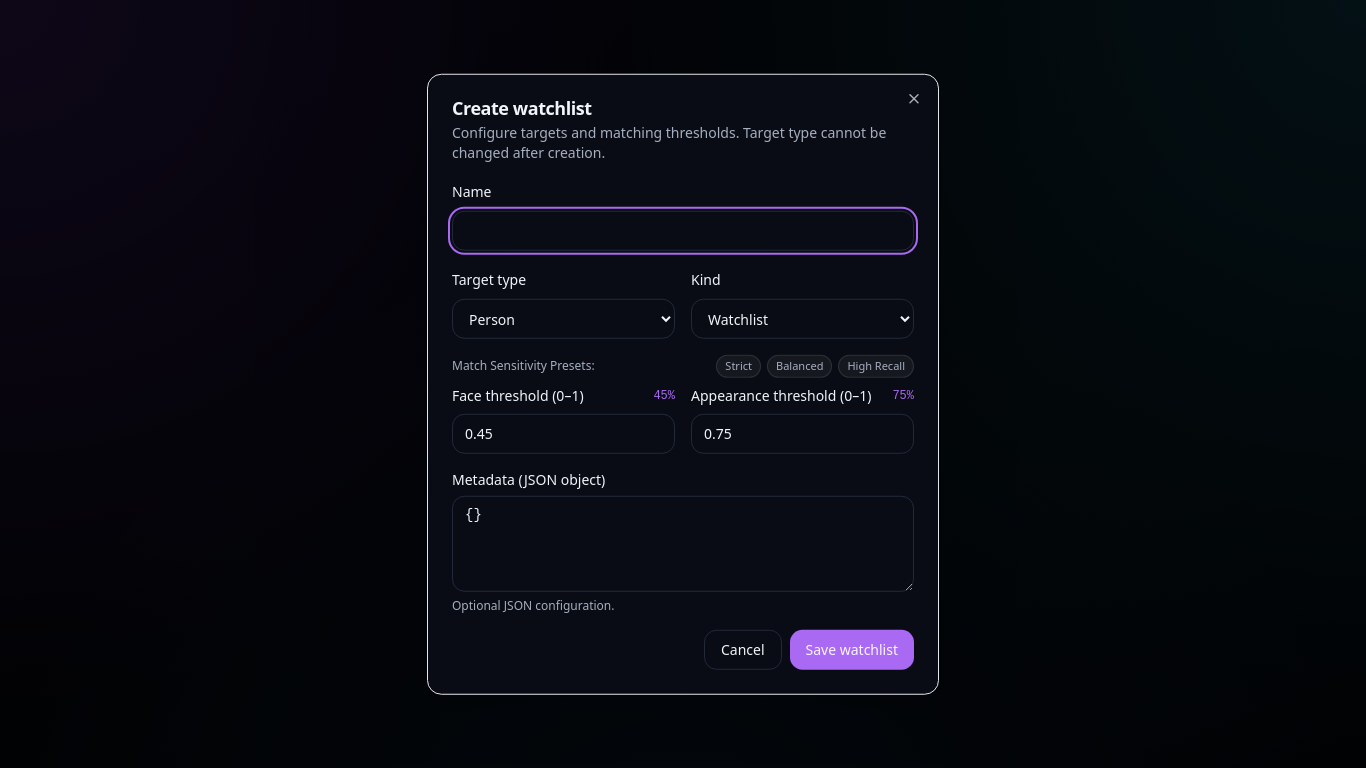
watchlist form validation › keeps a server rejection visible and preserves input for correction
This screenshot has width=1366, height=768.
Type "Staff" into the field labelled "Name" at (683, 231), box [452,211,914,251]
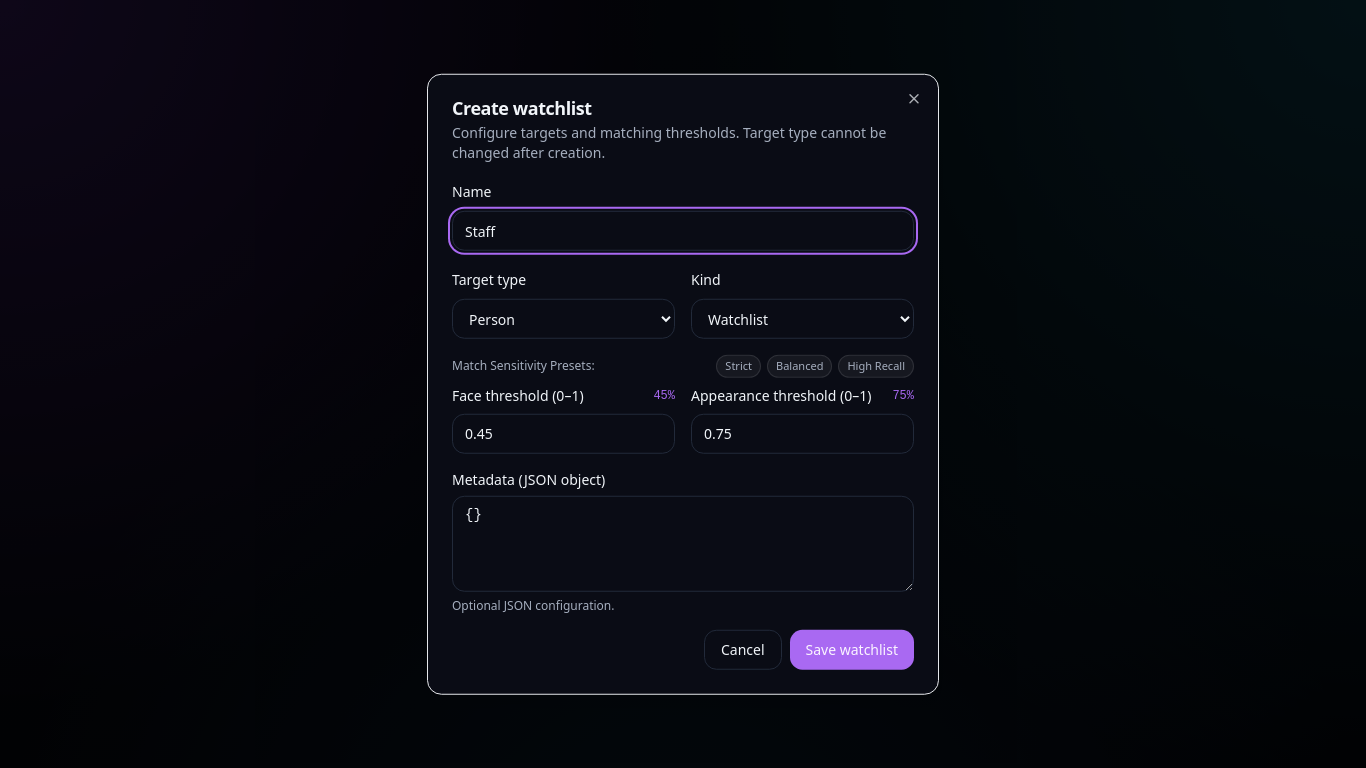
Submit the form named "Save watchlist", box [452,179,914,669]
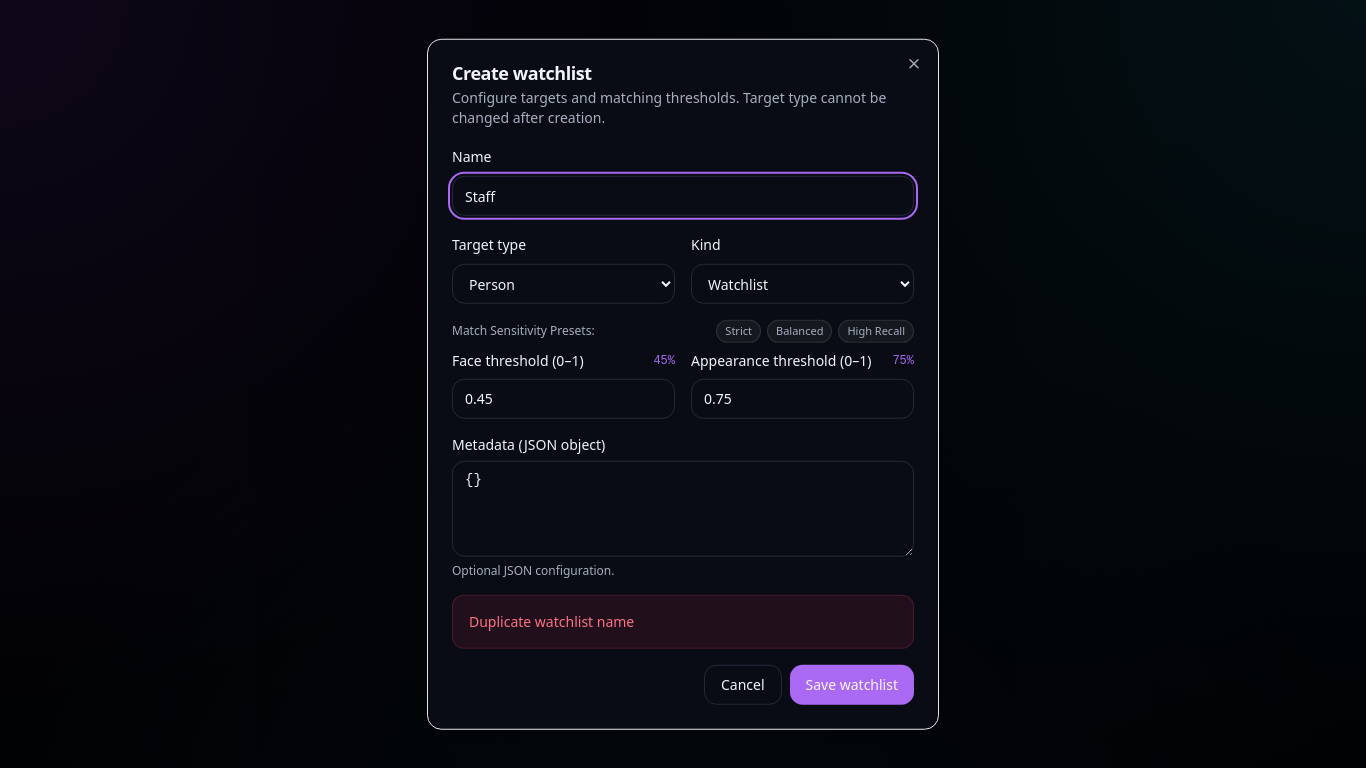
Expected: the dialog is shown, [427,39,939,729]
Expected: the message reads "Duplicate watchlist name", [469,611,634,630]
